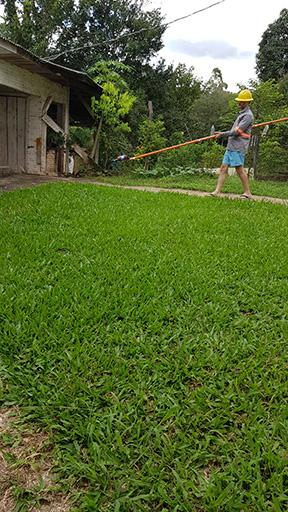Detector_Tensao_Contato: (112, 153, 131, 164)
Vara_Manobra: (128, 117, 288, 161)
